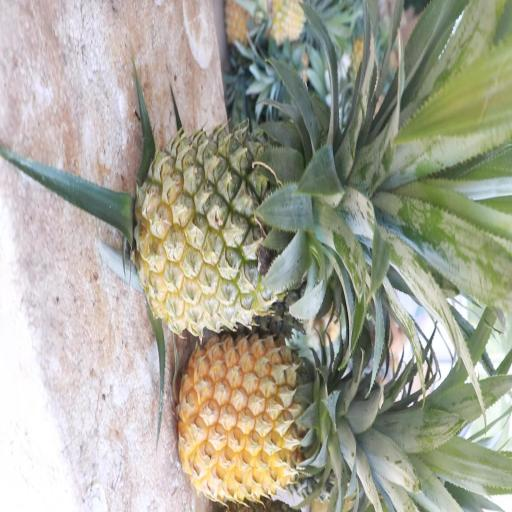------------------------------: (141, 132, 327, 329)
Pineapple - v8 v1: (182, 336, 350, 496)
